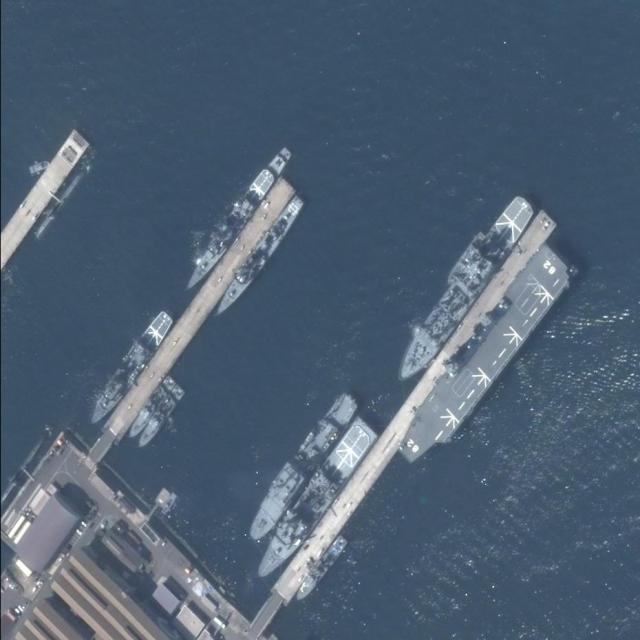Auxiliary Ships: (388, 191, 537, 387), (239, 391, 364, 545)
Destroyer: (390, 244, 577, 475), (180, 142, 295, 296), (211, 193, 306, 321)
Dock: (251, 213, 554, 637), (91, 177, 296, 459)
Frigate: (293, 533, 348, 606), (134, 385, 186, 452), (127, 375, 176, 441)
Landing: (247, 418, 381, 584), (80, 307, 179, 429)
Submarine: (32, 147, 99, 240), (1, 426, 54, 500)
